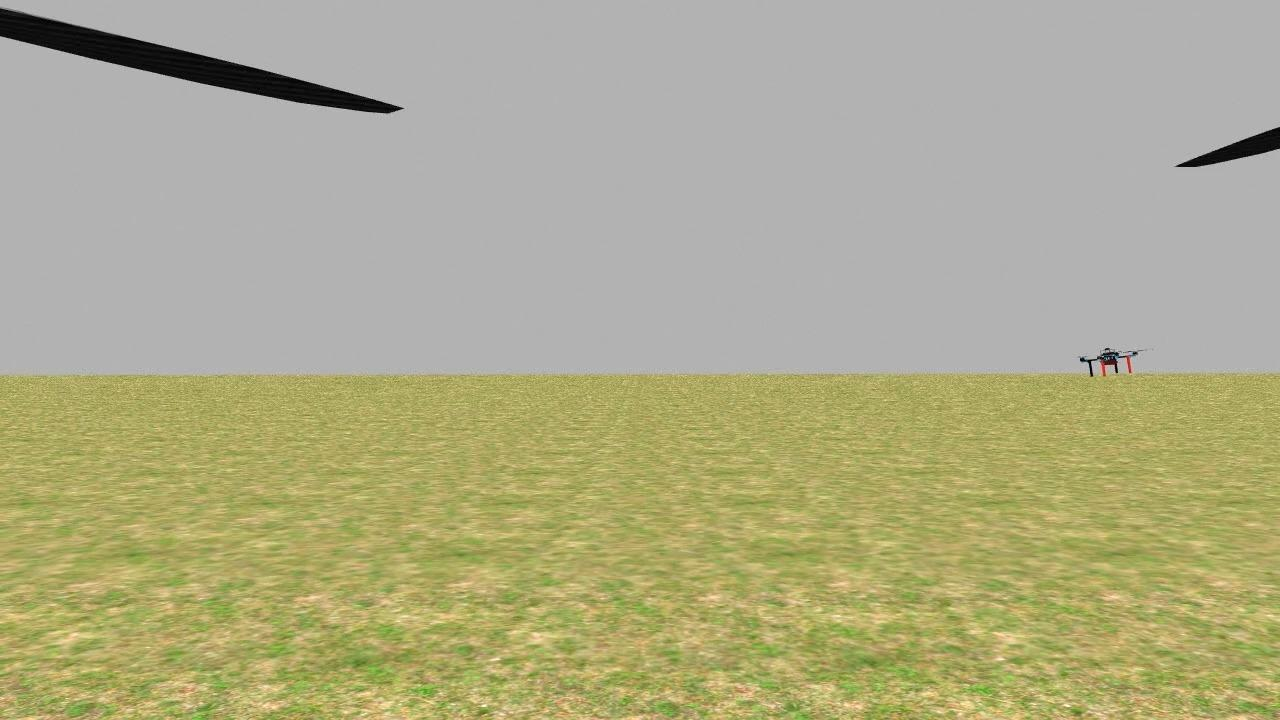UAV: (1072, 339, 1148, 385)
